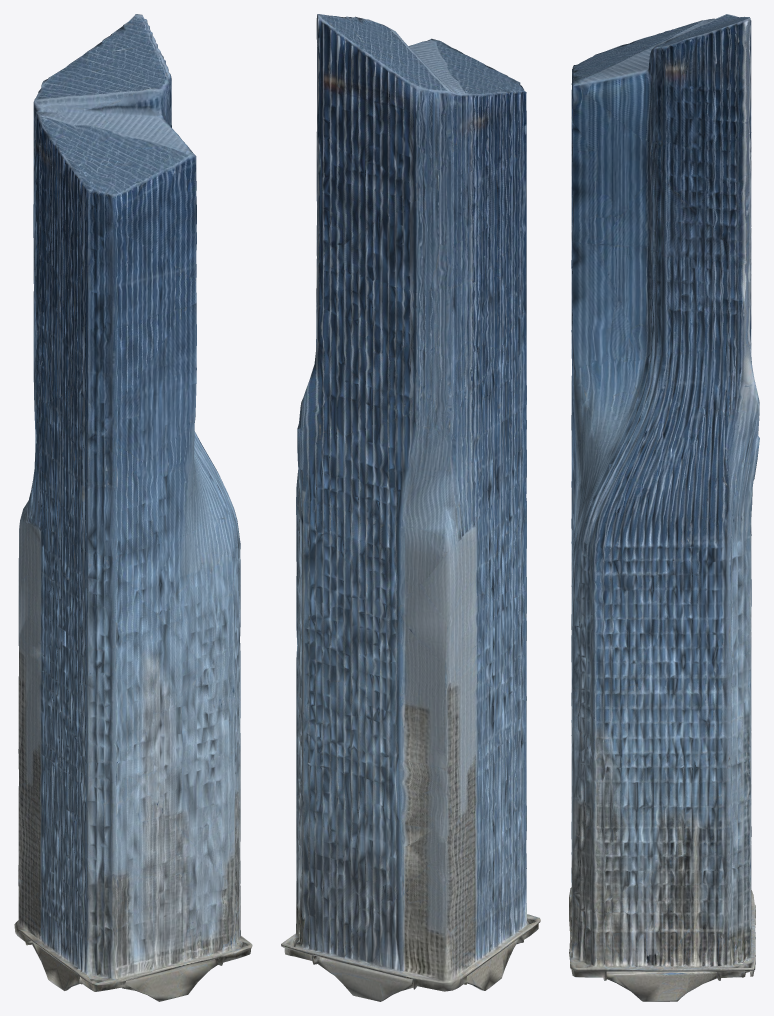
File: bld_glass.glb
3 renders of one model, left to right at view 1: azimuth 30°, elevation 25°; view 2: azimuth 150°, elevation 25°; view 3: azimuth 270°, elevation 25°, orthographic. The views are drawn at different scales.
Visible parts, largest first — view 1: bld_glass; view 2: bld_glass; view 3: bld_glass.
Boxes of the visible parts, bbox=[...] form: bld_glass: bbox=[14, 14, 252, 1001]; bld_glass: bbox=[281, 14, 540, 1001]; bld_glass: bbox=[569, 14, 759, 1001].
Bounding box in the file's own units: 0.3535 × 1.9 × 0.3401.
Materials: 1 (1 with a texture image).
